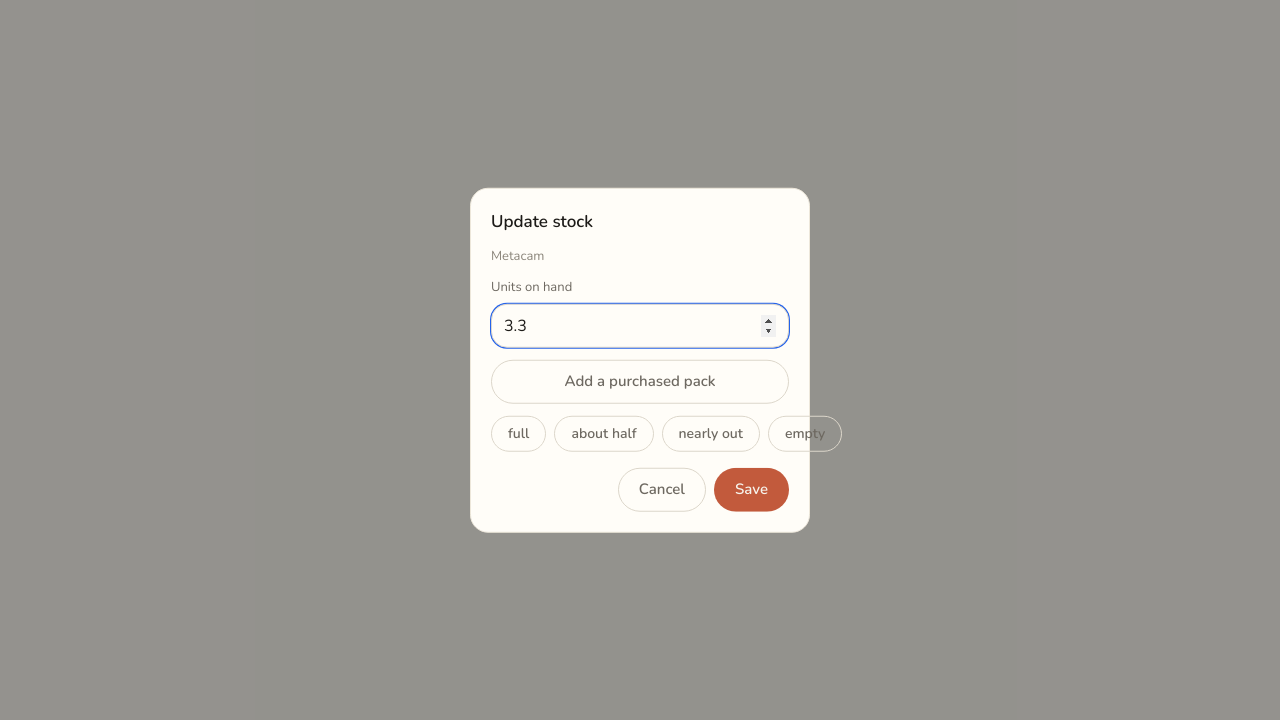
Test case: UpdateStockDialog › disables Save for an empty field
Clear the number field labelled "Units on hand" at (640, 325), box [491,303,789,347]
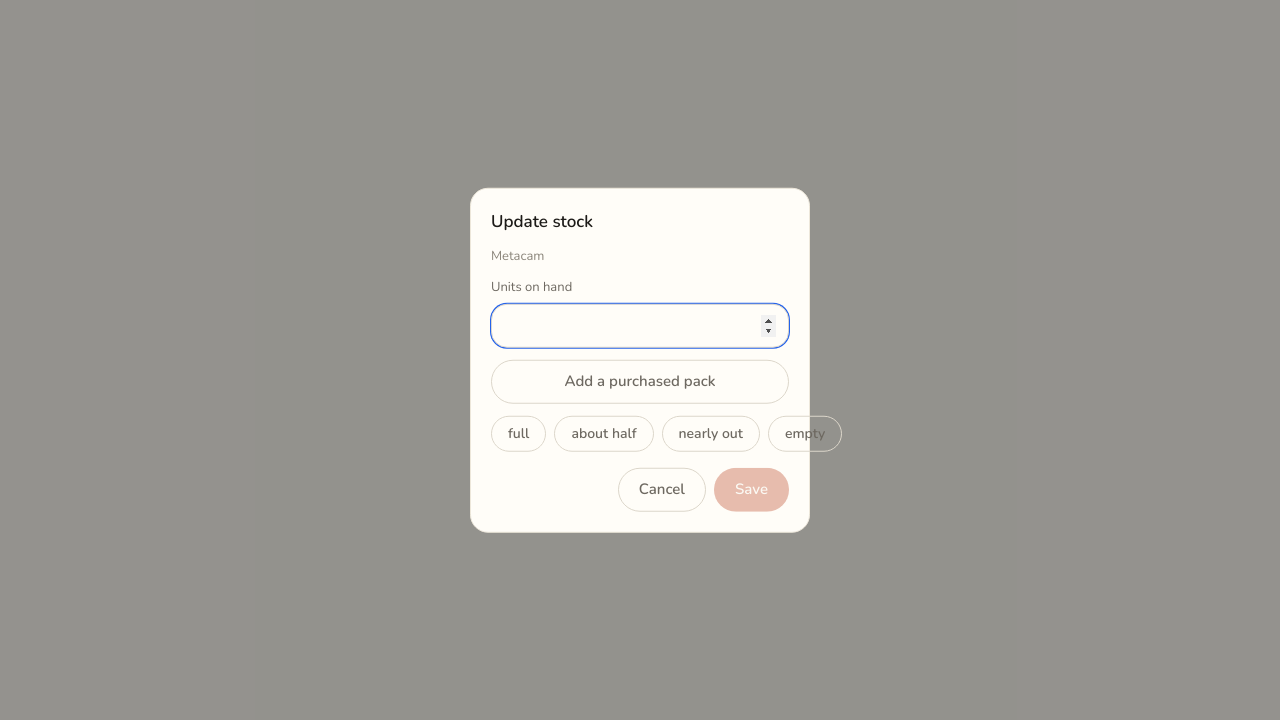
Now the button "Save" is disabled, box [714,467,789,511]
